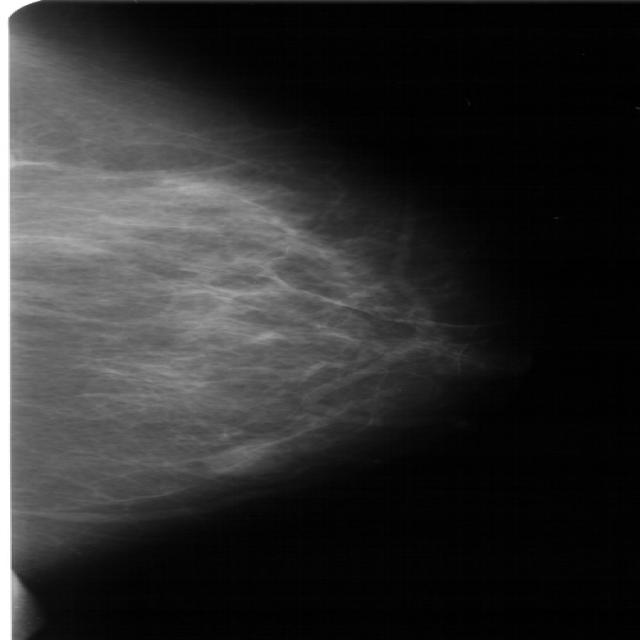tumour: (197, 437, 285, 476)
